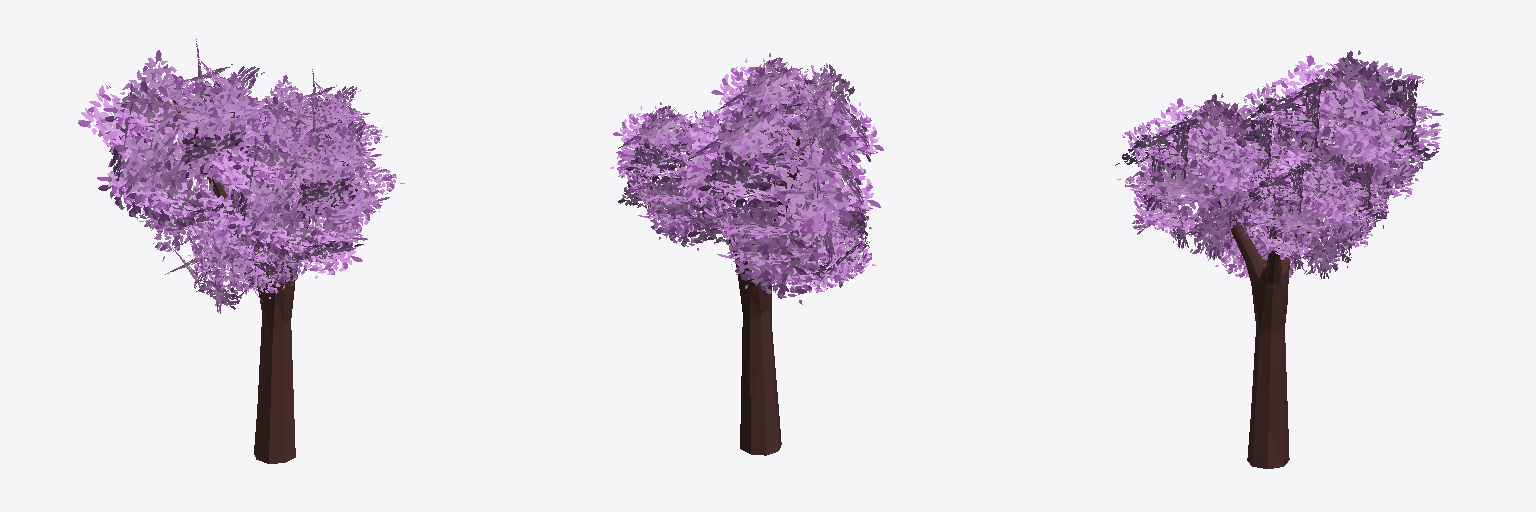
3 views of the same model, side by side, from view 1: azimuth 30°, elevation 25°; view 2: azimuth 150°, elevation 25°; view 3: azimuth 270°, elevation 25° (orthographic).
Parts seen in each view (by area): view 1: Plane.002_Plane.049, Plane.022_Plane.025, Cube, Plane.004_Plane.051, Plane.003_Plane.050; view 2: Plane.002_Plane.049, Plane.003_Plane.050, Plane.022_Plane.025, Cube, Plane.004_Plane.051; view 3: Plane.022_Plane.025, Plane.002_Plane.049, Plane.003_Plane.050, Cube, Plane.004_Plane.051.
Part boxes in pixels (x1,y1,x2,y2): Plane.002_Plane.049: (78, 39, 282, 261); Plane.022_Plane.025: (209, 102, 404, 289); Cube: (173, 100, 310, 463); Plane.004_Plane.051: (165, 179, 293, 313); Plane.003_Plane.050: (238, 69, 387, 196); Plane.002_Plane.049: (677, 93, 880, 304); Plane.003_Plane.050: (610, 102, 721, 250); Plane.022_Plane.025: (711, 53, 883, 197); Cube: (693, 137, 814, 455); Plane.004_Plane.051: (746, 173, 875, 292); Plane.022_Plane.025: (1115, 93, 1293, 259); Plane.002_Plane.049: (1244, 50, 1443, 239); Plane.003_Plane.050: (1243, 143, 1390, 278); Cube: (1211, 90, 1341, 468); Plane.004_Plane.051: (1205, 151, 1312, 277).
Bounding box in the file's own units: 7.9 × 11.23 × 8.53.
2 materials, 1 textured.